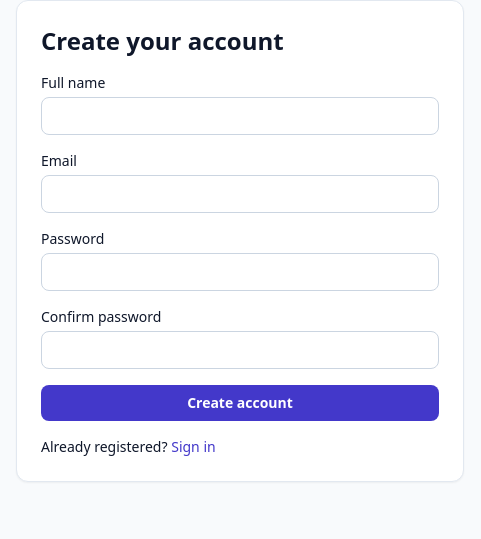
Test: form validation (client side is UX only; the API validates again) › register enforces password strength and matching confirmation
Type "Asha" into the field labelled "Full name".
click(240, 116); type("Asha")  # box [41,97,439,135]
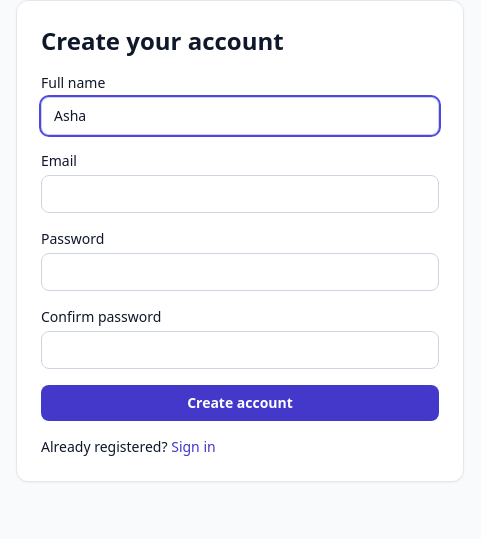
Type "asha@example.test" into the field labelled "Email".
click(240, 194); type("asha@example.test")  # box [41,175,439,213]
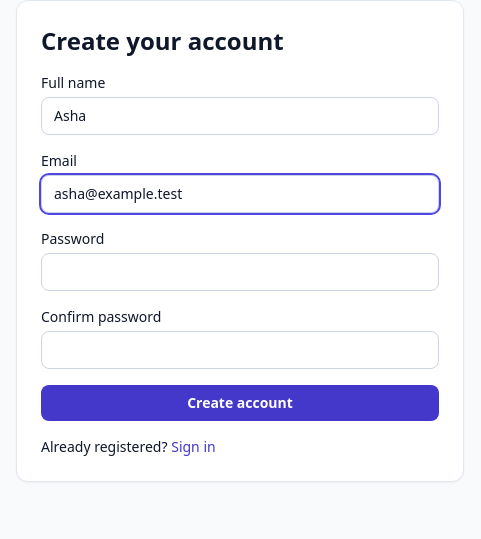
Type "short" into the password field labelled "Password".
click(240, 272); type("short")  # box [41,253,439,291]
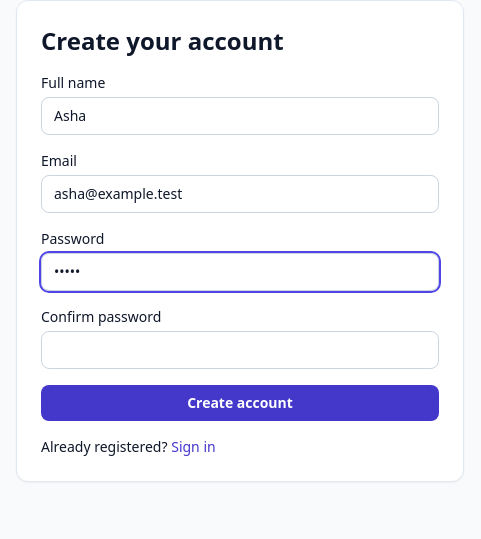
Type "different" into the password field labelled "Confirm password".
click(240, 350); type("different")  # box [41,331,439,369]
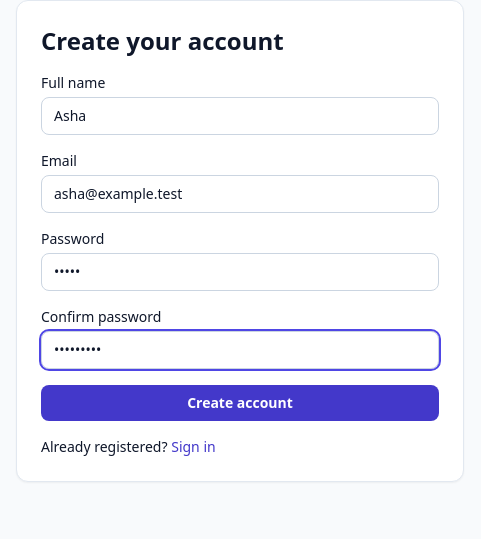
Click the button "Create account".
click(240, 403)  # box [41,385,439,421]
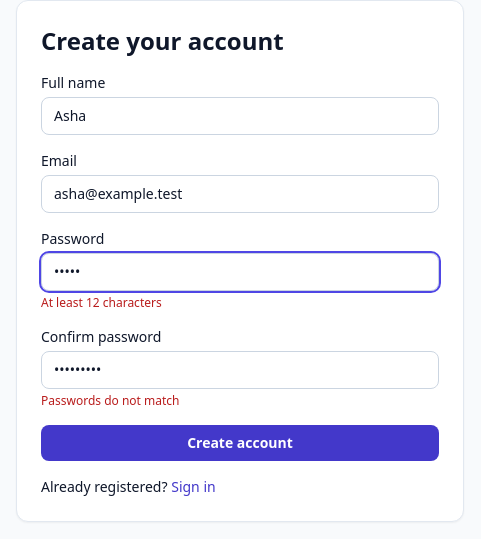
Check: the text "At least 12 characters" is shown, box [41,294,162,311]
Check: the text "Passwords do not match" is shown, box [41,392,180,409]
